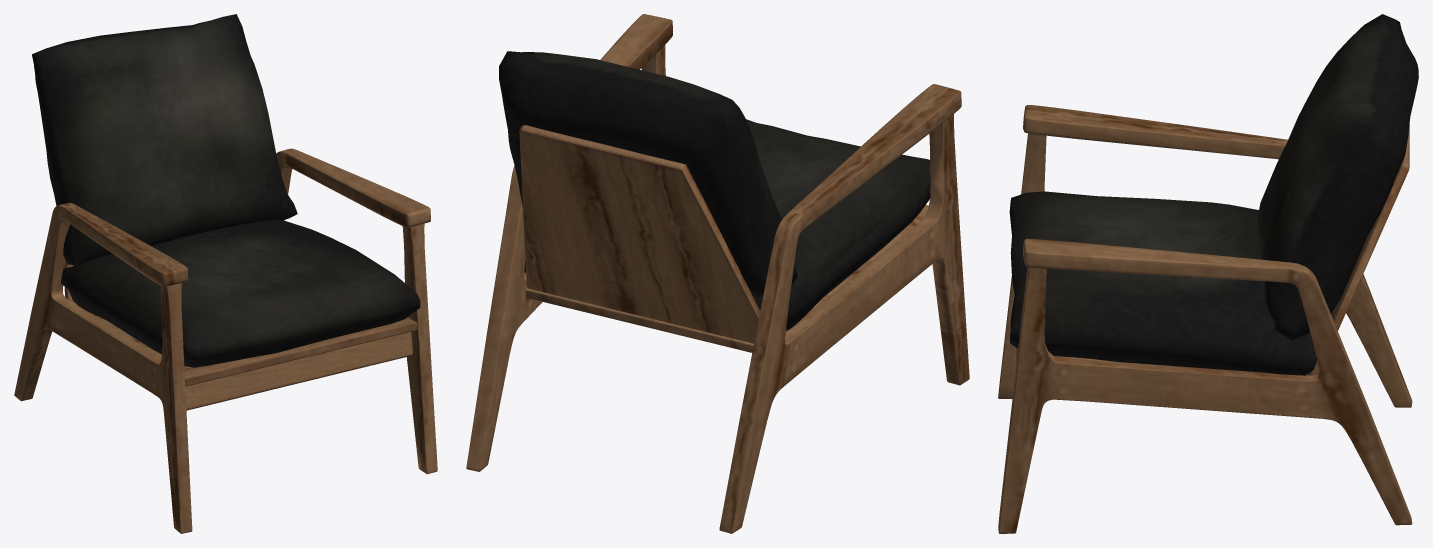
Rendered from modern_arm_chair_01.glb.
3 renders of one model, left to right at view 1: azimuth 30°, elevation 25°; view 2: azimuth 150°, elevation 25°; view 3: azimuth 270°, elevation 25°, orthographic. The views are drawn at different scales.
Visible parts, largest first — view 1: modern_arm_chair_01; view 2: modern_arm_chair_01; view 3: modern_arm_chair_01.
Part boxes in pixels (box(x1,y1,x2,y2)): modern_arm_chair_01: box(14, 14, 437, 533); modern_arm_chair_01: box(466, 14, 969, 533); modern_arm_chair_01: box(998, 14, 1418, 533).
Size of the model in its own units: 0.8203 by 1.02 by 0.9866.
2 materials, 2 textured.
